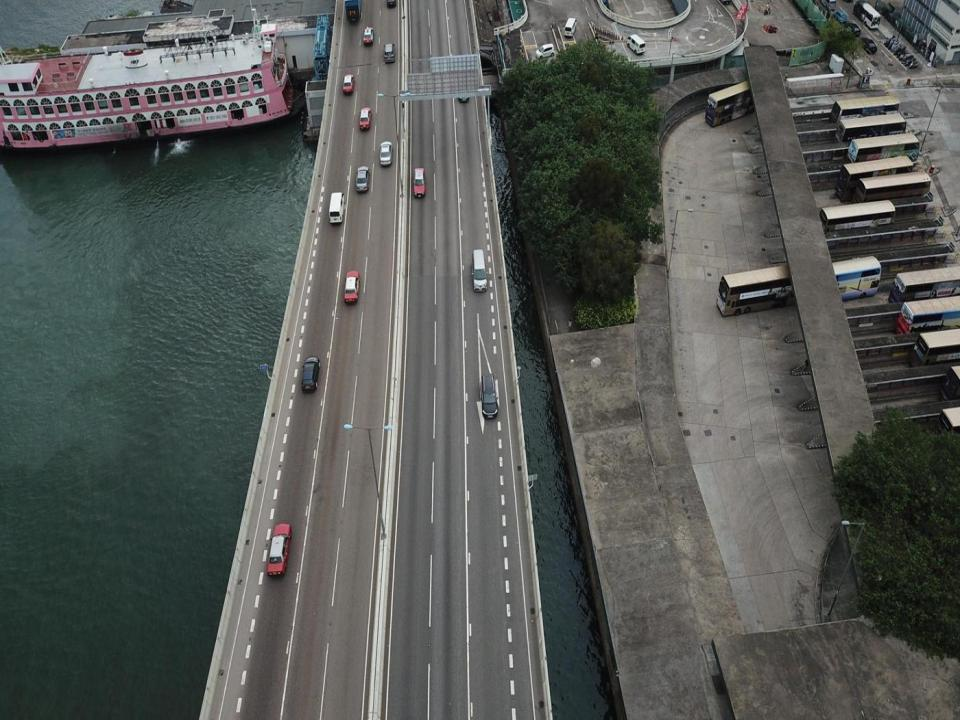bus: (714, 260, 799, 316), (856, 169, 934, 225), (835, 154, 917, 205), (846, 131, 922, 182), (887, 261, 959, 314), (817, 200, 901, 243), (893, 288, 959, 338), (825, 252, 886, 305), (834, 112, 906, 154), (828, 92, 900, 134), (702, 75, 754, 128), (908, 328, 960, 373), (850, 0, 882, 28)
car: (264, 522, 293, 577), (300, 354, 322, 395), (479, 374, 498, 420), (342, 270, 361, 307), (411, 167, 427, 199), (354, 165, 371, 193), (377, 140, 394, 167), (357, 106, 373, 132), (534, 43, 558, 59), (341, 72, 356, 94), (382, 42, 396, 65), (862, 35, 878, 54), (361, 25, 375, 46), (848, 21, 865, 38), (836, 8, 846, 21)
truck: (342, 2, 366, 23)
van: (469, 248, 490, 294), (326, 191, 346, 225), (625, 30, 648, 57), (562, 16, 578, 38)
